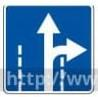road_sign: (2, 3, 95, 95)
